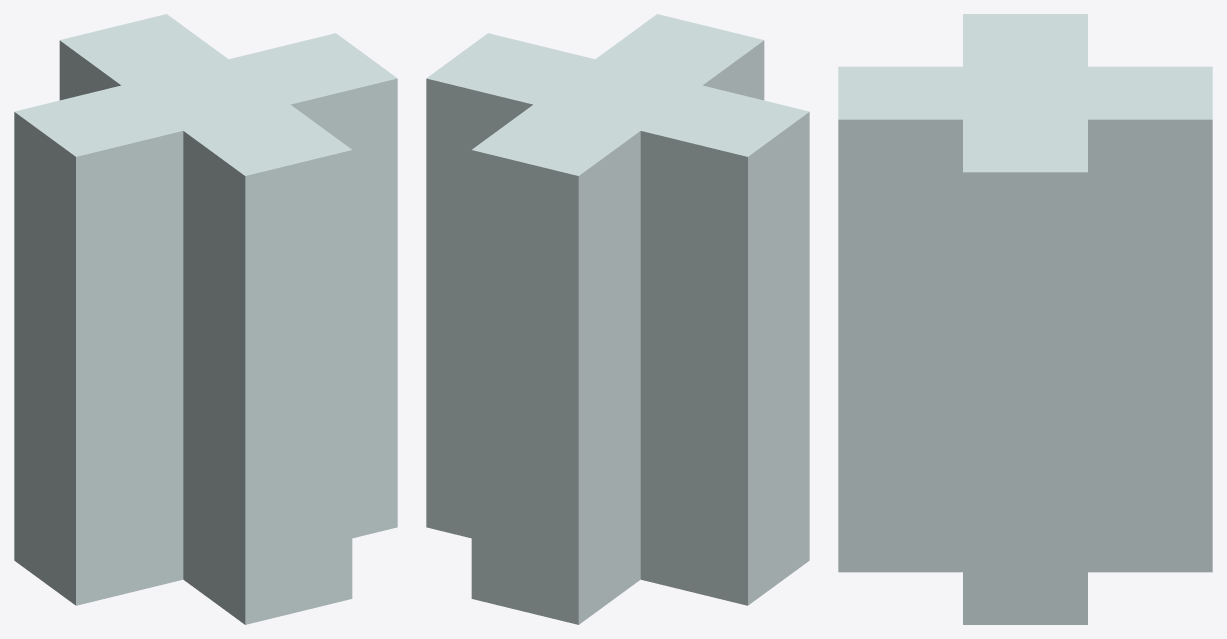
The model's file is Medieval Assets-27-Decoration - Swamp - Torch Light.obj.
The picture shows the model from 3 angles, left to right: view 1: azimuth 30°, elevation 25°; view 2: azimuth 150°, elevation 25°; view 3: azimuth 270°, elevation 25°; orthographic projection.
Visible parts, largest first — view 1: Decoration - Swamp - Torch Light; view 2: Decoration - Swamp - Torch Light; view 3: Decoration - Swamp - Torch Light.
Boxes of the visible parts, left/top/right/bottom form: Decoration - Swamp - Torch Light: left=14, top=14, right=397, bottom=624; Decoration - Swamp - Torch Light: left=426, top=14, right=809, bottom=624; Decoration - Swamp - Torch Light: left=838, top=14, right=1212, bottom=624.
Size of the model in its own units: 0.3 by 0.4 by 0.3.
1 material, 1 textured.
